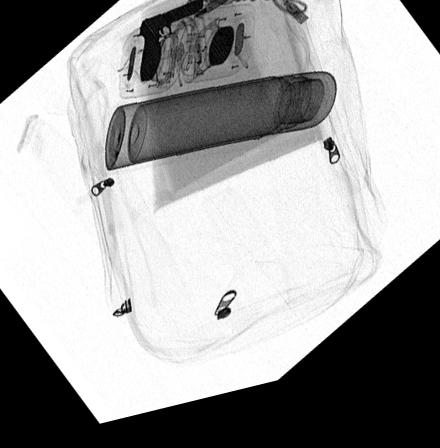Bullet: (192, 0, 232, 27)
Gun: (140, 5, 204, 87)
